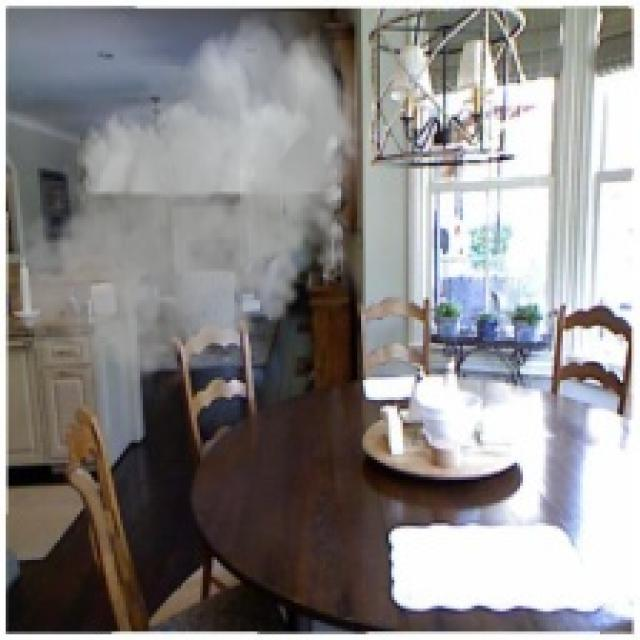smoke: (9, 12, 372, 397)
